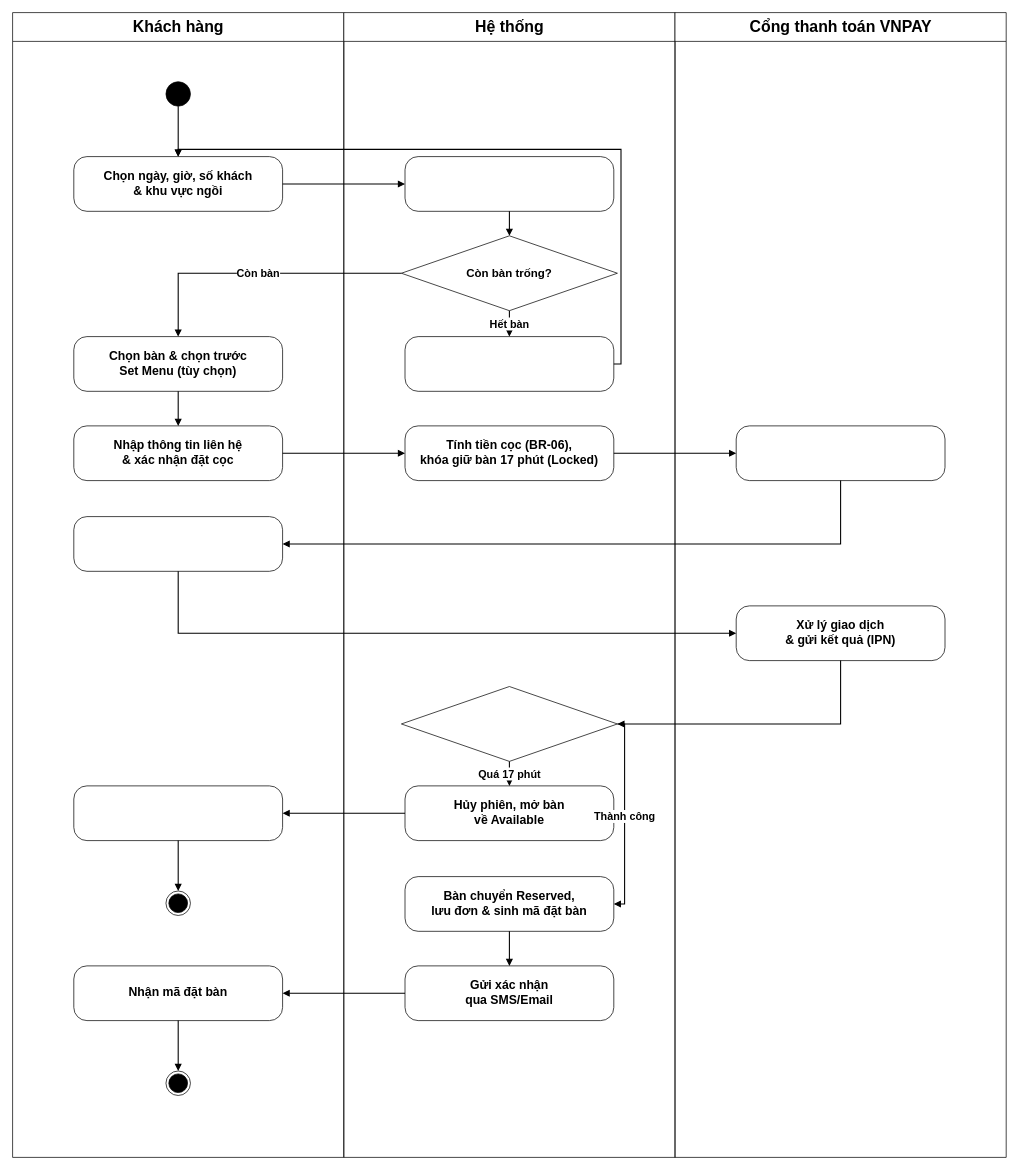
This 1019x1170 diagram has some shape labels left out. The centre of each missing label's shape, as x and y in pixels:
"Gợi ý ca phục vụ hoặc khu vực khác" belongs at (x=509, y=363).
"Hiển thị bàn còn trống trên sơ đồ mặt bằng" belongs at (x=509, y=183).
"Nhận thông báo hủy giữ chỗ" belongs at (x=178, y=813).
"Thanh toán cọc qua VietQR hoặc thẻ" belongs at (x=178, y=543).
"Thanh toán thành công trong 17 phút?" belongs at (x=509, y=723).
"Tạo giao dịch thanh toán cọc" belongs at (x=840, y=453).
